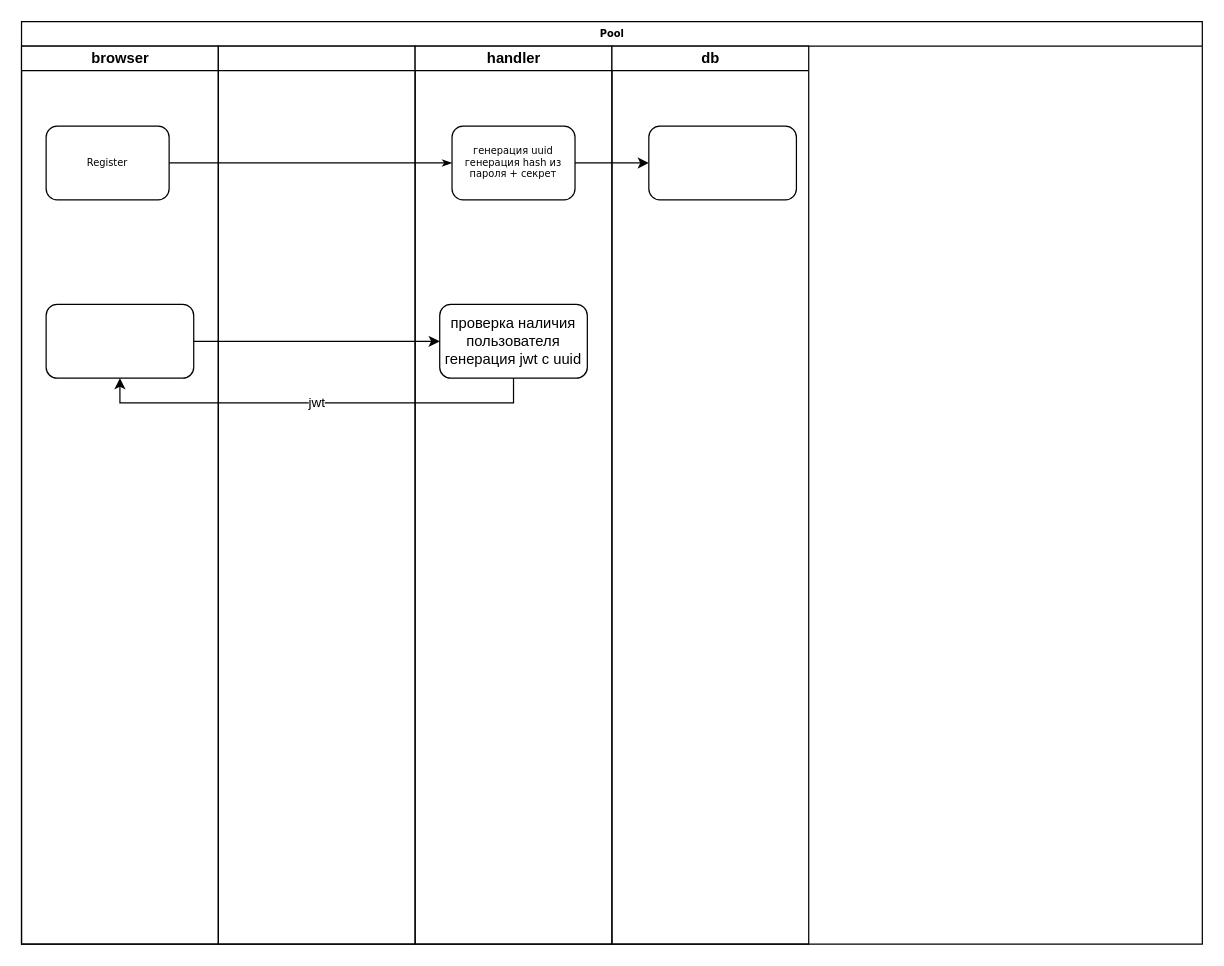
Image size: 1224x966. Some labels were removed from this diagram. The shapes that lost their labels are listed below. From the top down, each one's centre as x and y in pixels, then its label:
pixel 722 162: создаем записи в таблицу users и balances
pixel 119 340: Login
pixel 316 494: middleware
